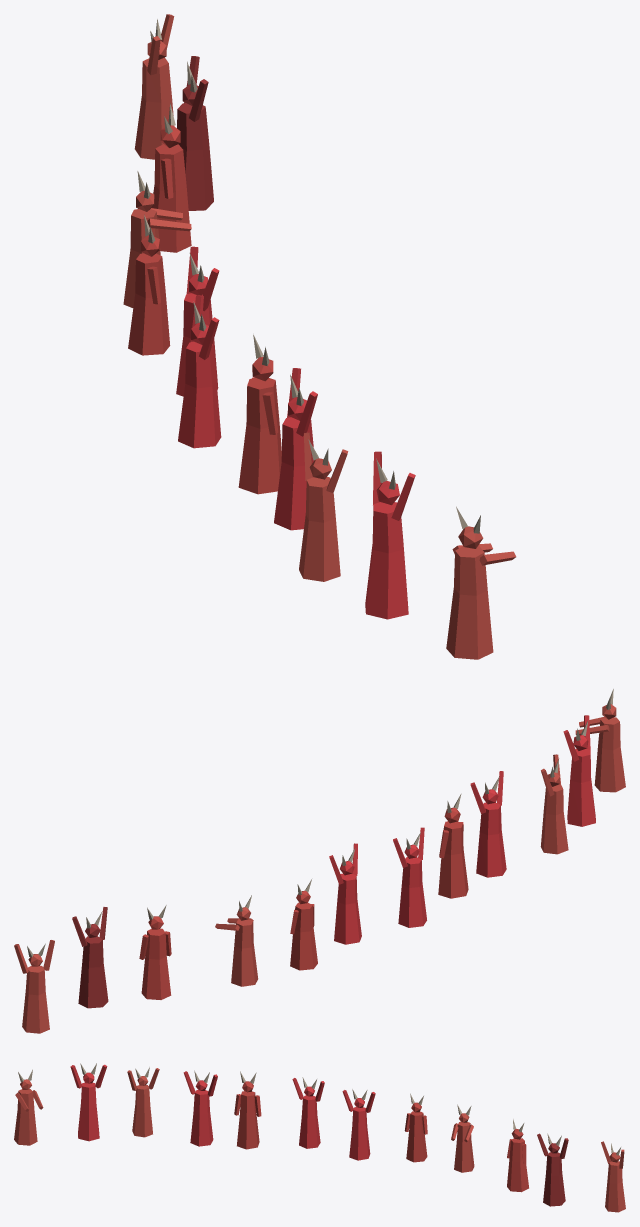
File: Stands_8_0_1.obj
The picture shows the model from 3 angles, top to bottom: view 1: azimuth 30°, elevation 25°; view 2: azimuth 150°, elevation 25°; view 3: azimuth 270°, elevation 25°; orthographic projection. The views are drawn at different scales.
Visible parts, largest first — view 1: Stands_8_0_1; view 2: Stands_8_0_1; view 3: Stands_8_0_1.
Part boxes in pixels (x1,y1,x2,y2): Stands_8_0_1: (123, 14, 516, 659); Stands_8_0_1: (14, 689, 625, 1033); Stands_8_0_1: (14, 1063, 625, 1212).
Size of the model in its own units: 10.71 by 4.25 by 32.24.
Materials: 1 (1 with a texture image).
